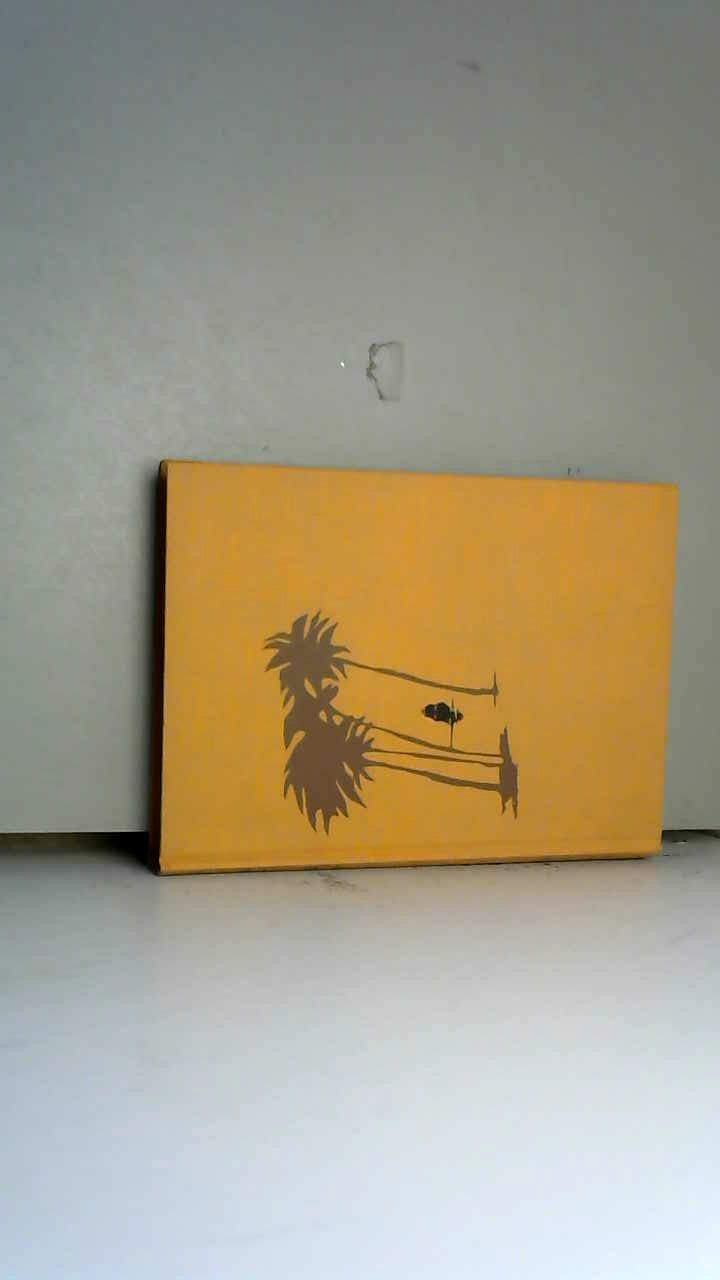book: (126, 439, 696, 893)
